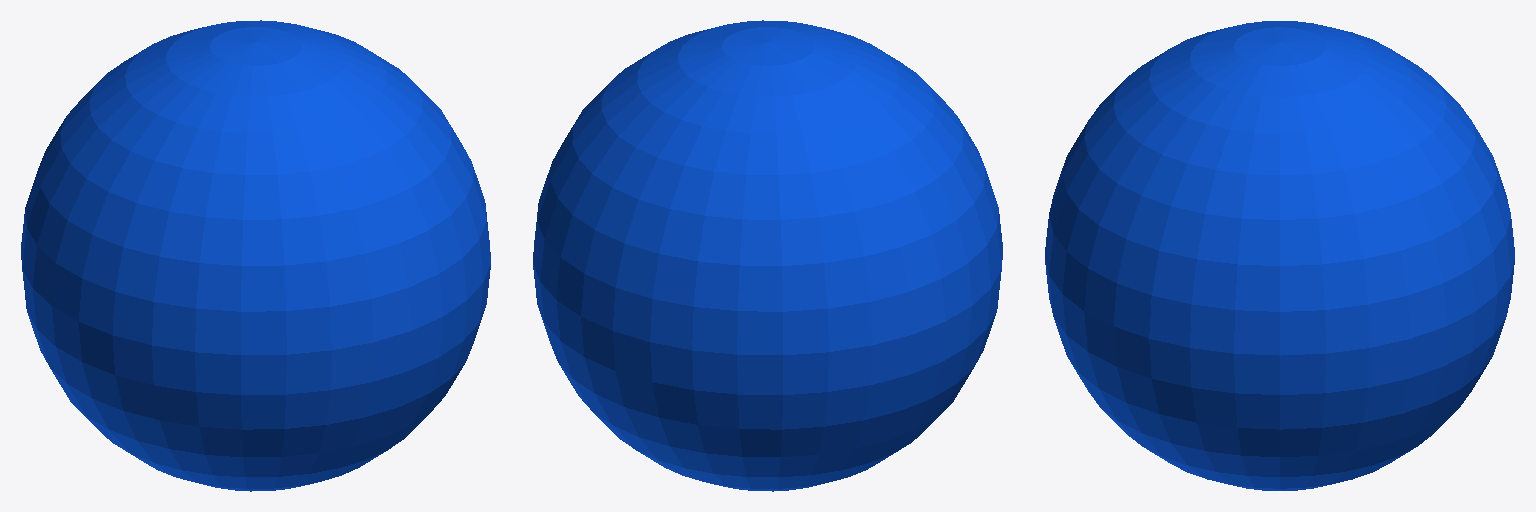
The robot description file, URDF, robot "sphere_small":
<?xml version="1.0" ?>
<robot name="sphere_small">
  <link name="base">
    <inertial>
      <origin xyz="0 0 0"/>
      <mass value="0.15"/>
      <inertia ixx="2e-4" ixy="0" ixz="0" iyy="2e-4" iyz="0" izz="2e-4"/>
    </inertial>
    <visual>
      <origin xyz="0 0 0" rpy="0 0 0"/>
      <geometry><sphere radius="0.04"/></geometry>
      <material name="blue"><color rgba="0.1 0.4 0.9 1"/></material>
    </visual>
    <collision>
      <origin xyz="0 0 0" rpy="0 0 0"/>
      <geometry><sphere radius="0.04"/></geometry>
    </collision>
  </link>
</robot>

--- Render facts (derived) ---
3 views of the same robot in one strip: view 1: azimuth 30°, elevation 25°; view 2: azimuth 150°, elevation 25°; view 3: azimuth 270°, elevation 25° (orthographic).
Model sphere_small with 1 links and 0 joints (none), rooted at base, posed every joint at zero.
Visible links, largest first — view 1: base; view 2: base; view 3: base.
Boxes of the visible links, x1=… form: base: x1=21, y1=20, x2=490, y2=491; base: x1=533, y1=20, x2=1002, y2=491; base: x1=1045, y1=21, x2=1514, y2=490.
Bounding box of the posed robot: 0.08 × 0.08 × 0.08 m (x, y, z).
Geometry: primitives only (box / cylinder / sphere), no mesh files.